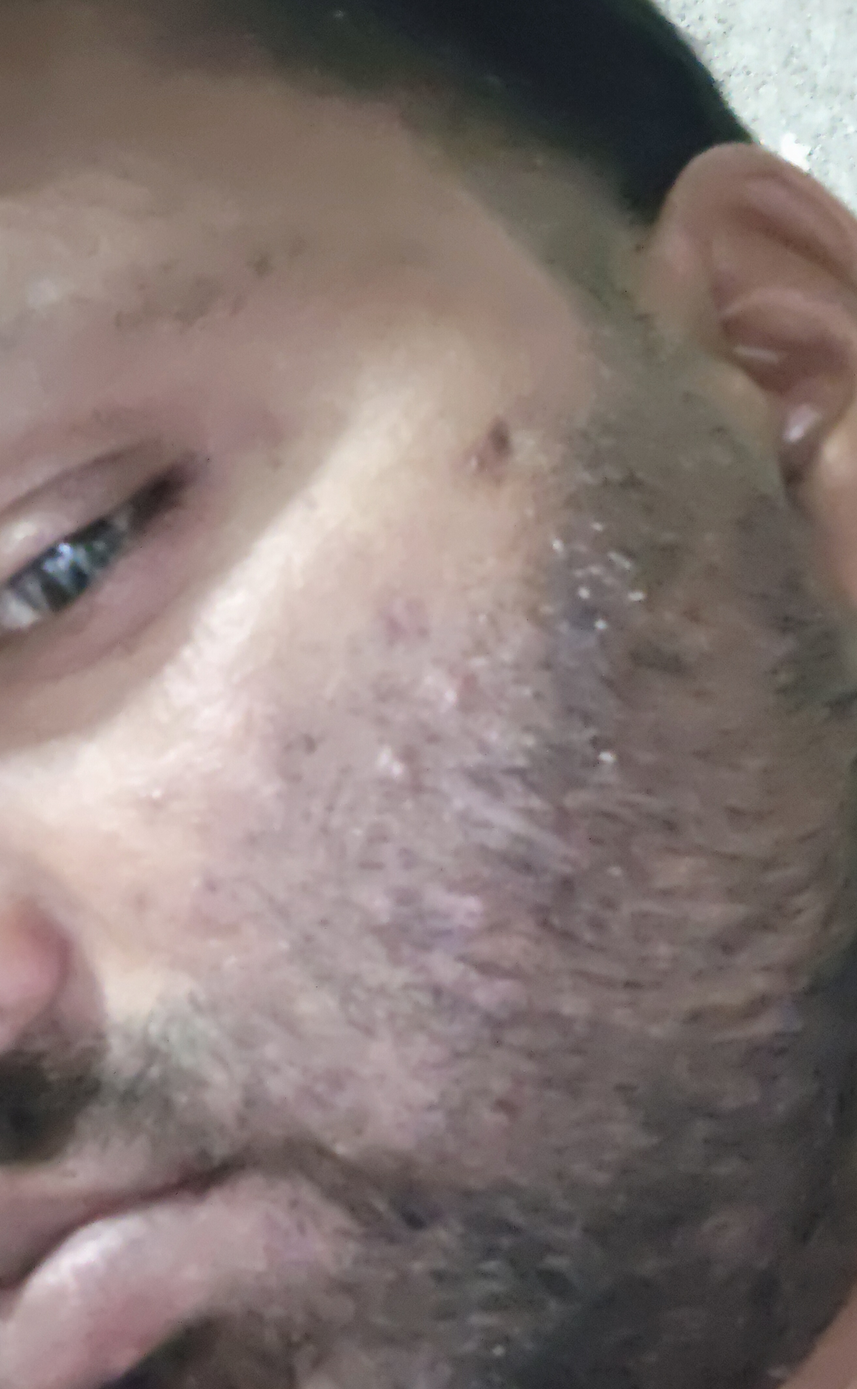papule: (355, 723, 452, 819), (433, 661, 502, 735), (449, 867, 502, 936)
